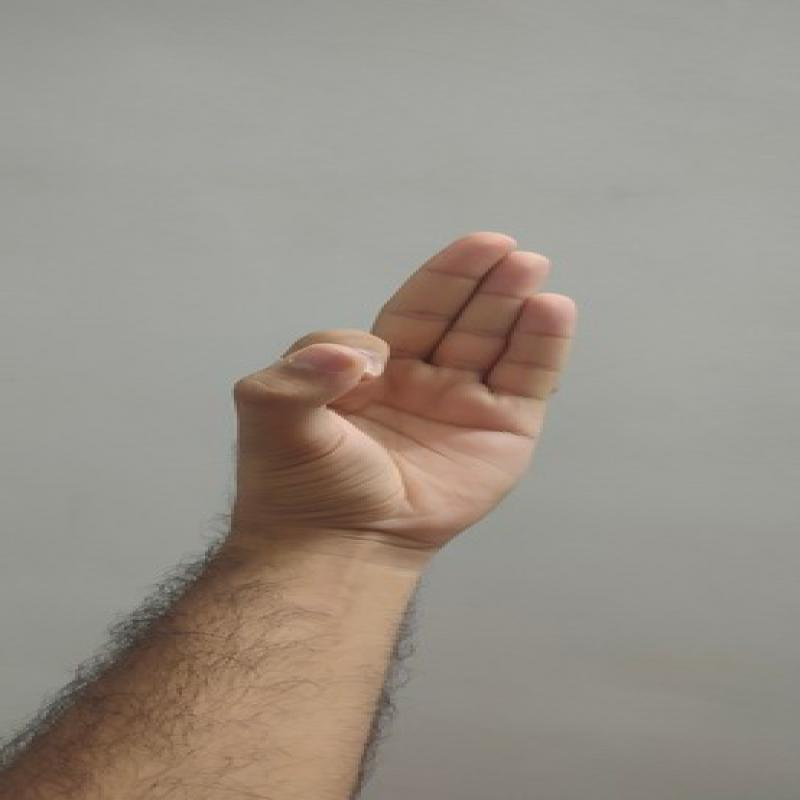Mudraakhyam: (222, 216, 592, 553)
